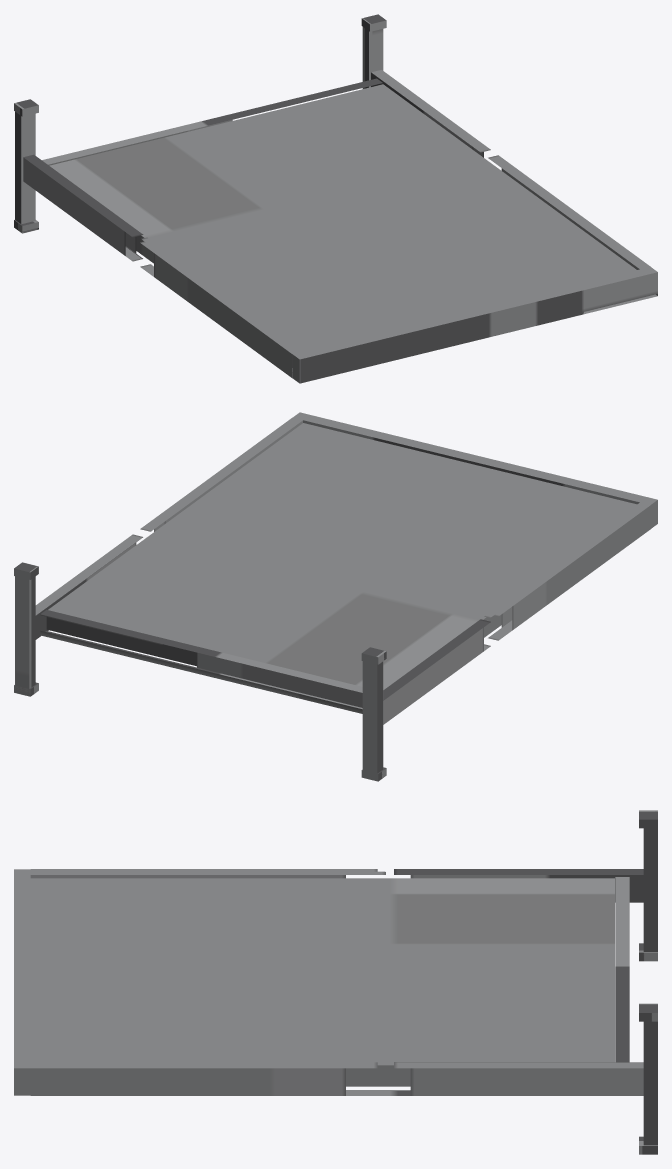
3 views of the same model, one above another, from view 1: azimuth 30°, elevation 25°; view 2: azimuth 150°, elevation 25°; view 3: azimuth 270°, elevation 25° (orthographic). The views are drawn at different scales.
Bounding box in the file's own units: 1.01 × 0.33 × 1.36.
